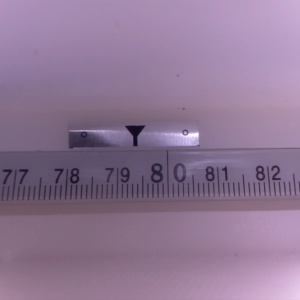0: (173, 162, 187, 182)
2: (270, 165, 281, 181)
7: (0, 169, 12, 185), (17, 169, 28, 185), (53, 168, 63, 184), (103, 167, 113, 183)
8: (150, 163, 163, 182), (69, 168, 80, 184), (255, 165, 265, 181), (206, 166, 215, 181)
9: (119, 167, 129, 183)
finger: (123, 125, 146, 147)
